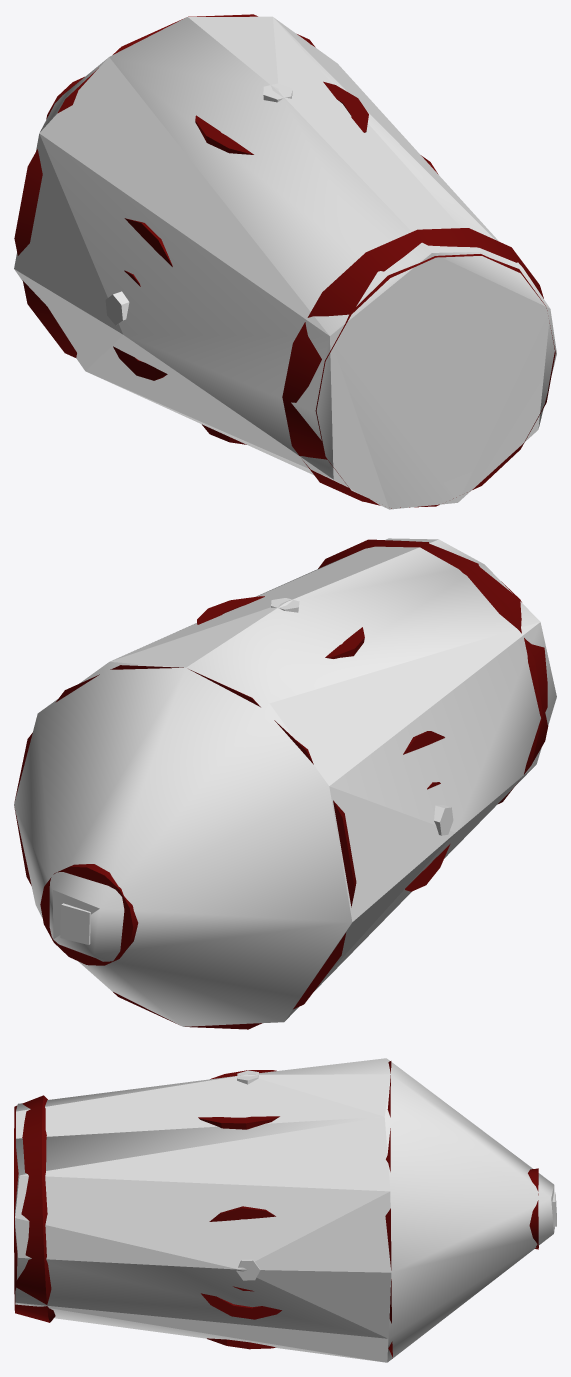
File: hydrant.fbx
3 renders of one model, top to bottom at view 1: azimuth 30°, elevation 25°; view 2: azimuth 150°, elevation 25°; view 3: azimuth 270°, elevation 25°, orthographic. The views are drawn at different scales.
Visible parts, largest first — view 1: c_hydrant, hydrant; view 2: c_hydrant, hydrant; view 3: c_hydrant, hydrant.
Part boxes in pixels (x1=…): c_hydrant: x1=14, y1=16, x2=556, y2=509; hydrant: x1=14, y1=14, x2=555, y2=508; c_hydrant: x1=14, y1=538, x2=556, y2=1026; hydrant: x1=14, y1=539, x2=548, y2=1029; c_hydrant: x1=15, y1=1058, x2=554, y2=1362; hydrant: x1=14, y1=1061, x2=556, y2=1357.
Bounding box in the file's own units: 36.41 × 36.41 × 66.16.
